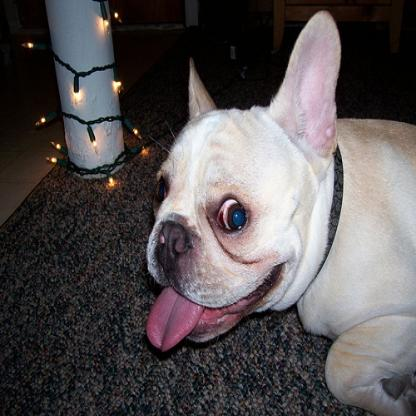French_bulldog: (146, 8, 412, 414)
